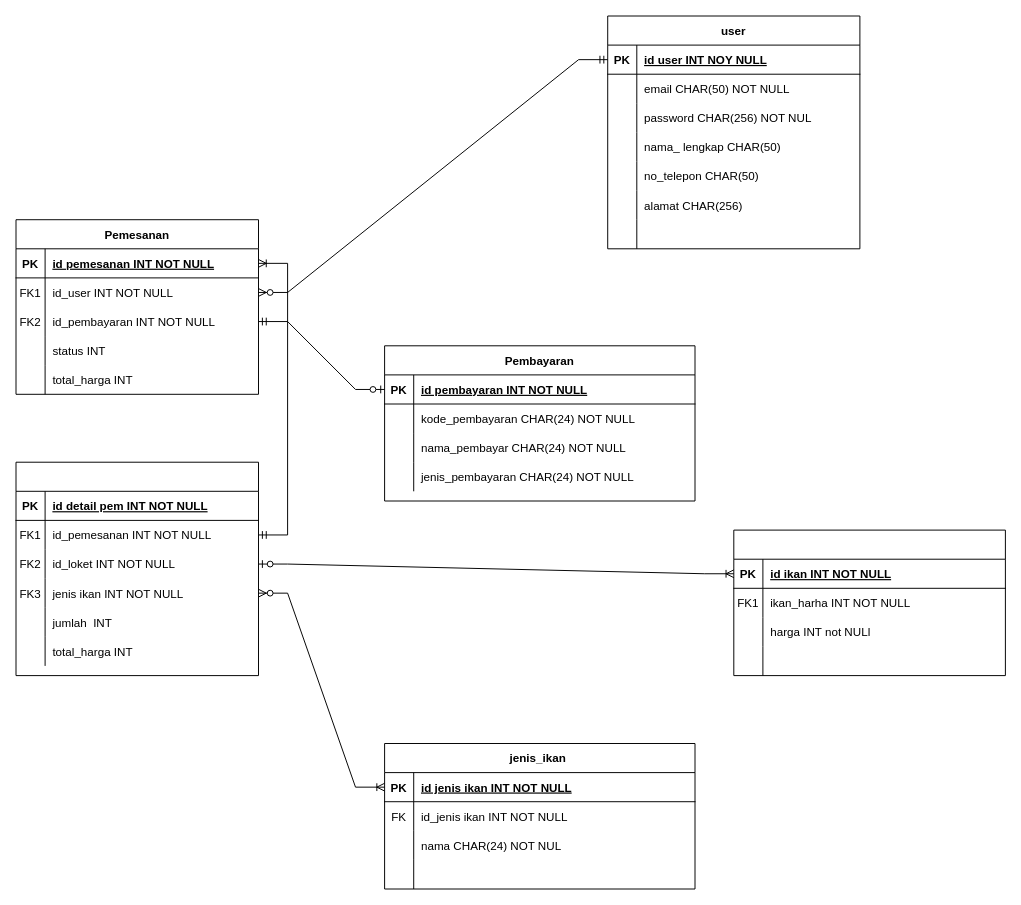
Some shapes in this 1021 by 905 pixel diagram are drawn without their labels. Here are the shapes that lost their labels. From the top down, the box of each, then its label:
(15, 461, 259, 676): Detail_pemesanan
(733, 529, 1005, 676): jenis
